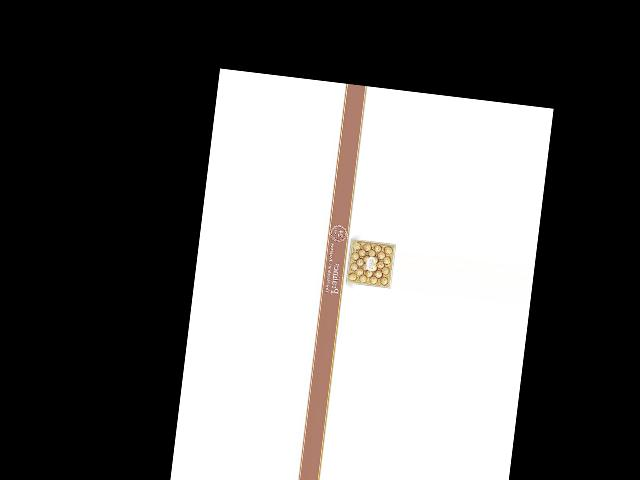chocolate: (343, 235, 399, 290)
